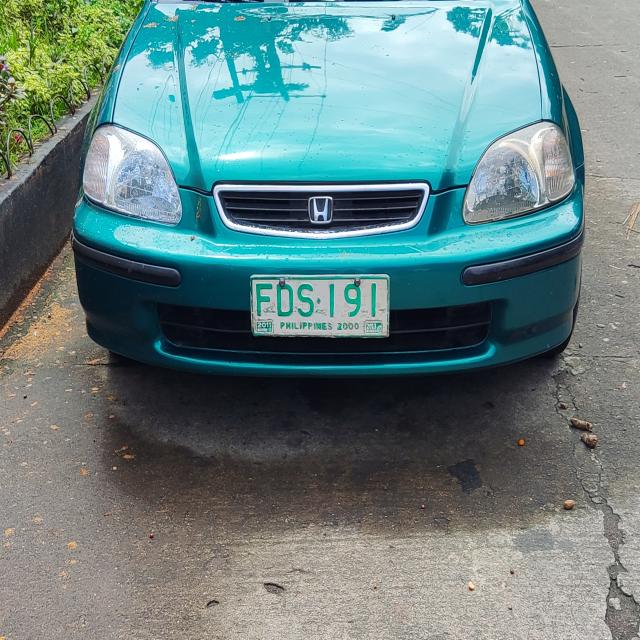plate: (249, 273, 390, 339)
